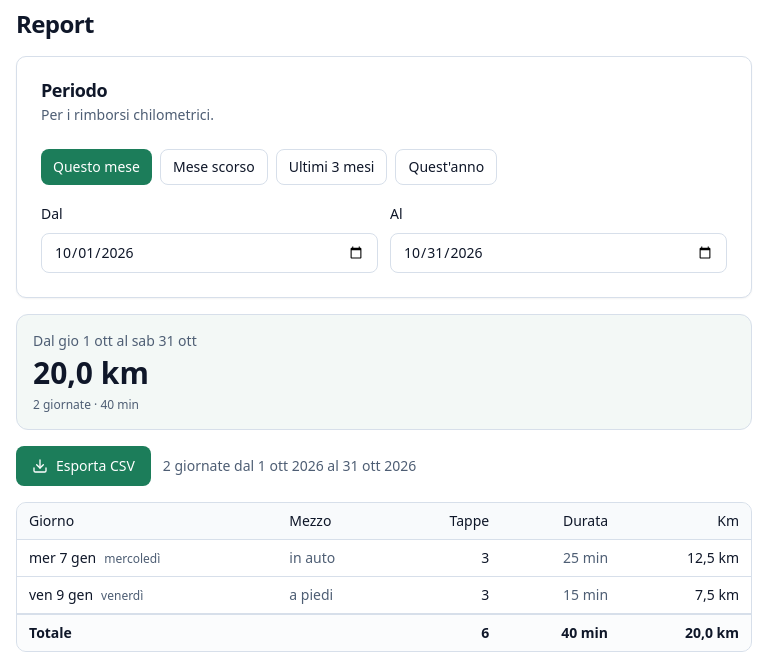
Test: ReportsPage › rifiuta un intervallo con le date invertite
Expected: the table is shown, [17, 503, 751, 651]
In the date field labelled "Dal": (210, 253) [41, 233, 378, 273], type "2026-03-31"
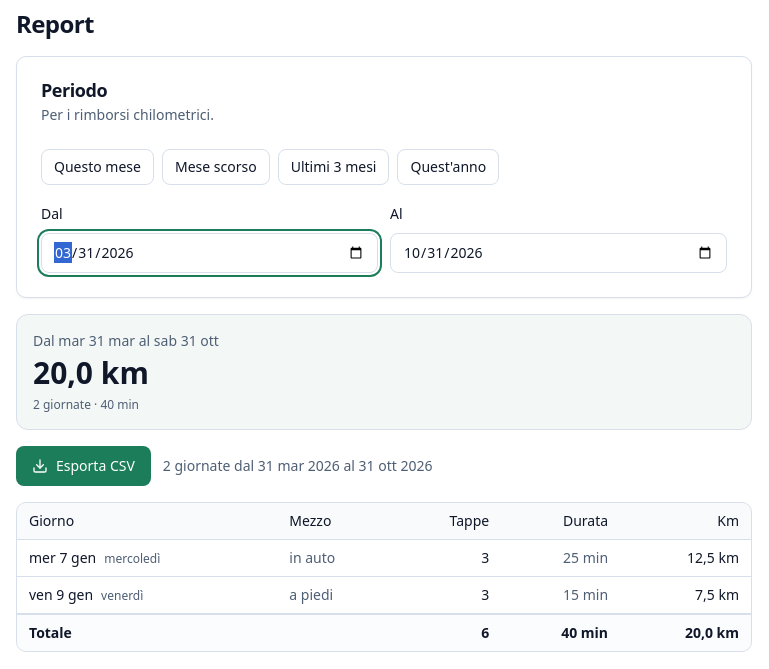
In the date field labelled "Al": (558, 253) [390, 233, 727, 273], type "2026-03-01"
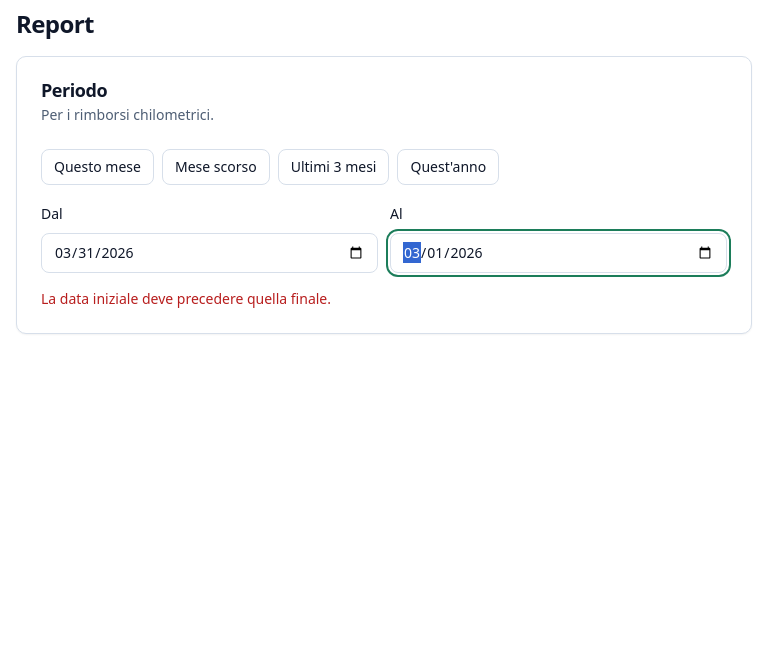
Expected: the text "La data iniziale deve precedere quella finale." is shown, [41, 289, 331, 308]
